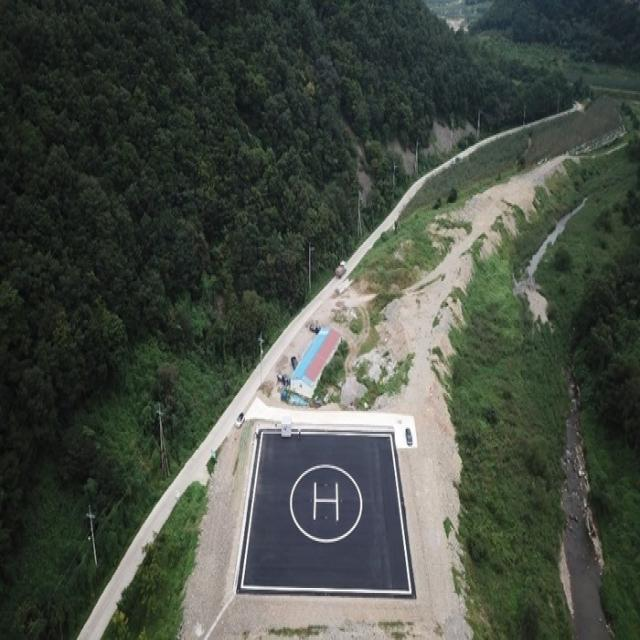helipad: (287, 460, 363, 544)
